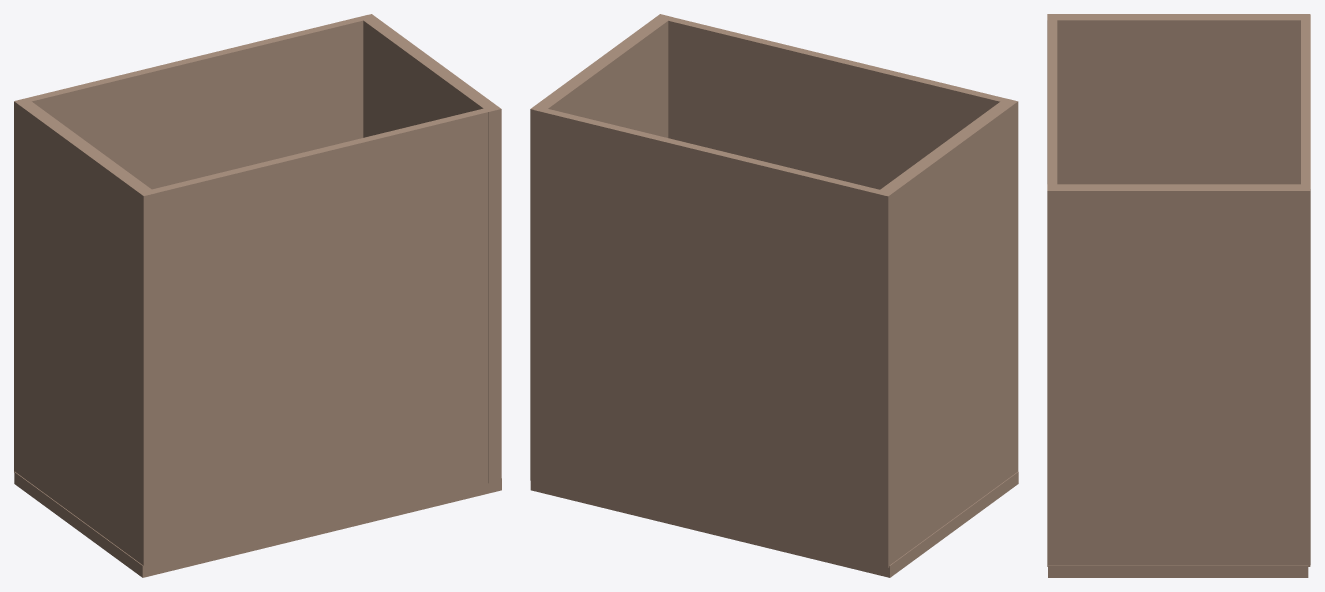
The model's file is Case_2.fbx.
3 views of the same model, side by side, from view 1: azimuth 30°, elevation 25°; view 2: azimuth 150°, elevation 25°; view 3: azimuth 270°, elevation 25° (orthographic).
Visible parts, largest first — view 1: Case_2; view 2: Case_2; view 3: Case_2.
Boxes of the visible parts, x1,y1,x2,y2 form: Case_2: [14, 14, 501, 577]; Case_2: [530, 14, 1018, 577]; Case_2: [1047, 14, 1310, 577].
Bounding box in the file's own units: 47.69 × 29.87 × 48.45.
